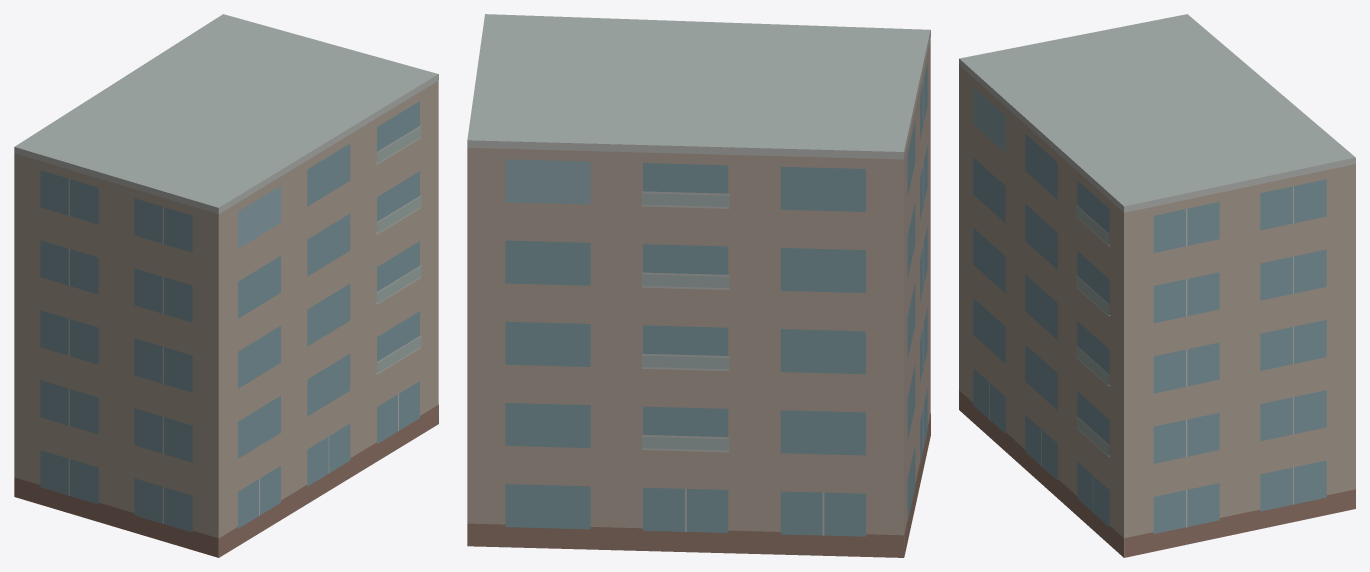
The model's file is survey-upis-32705717.glb.
The picture shows the model from 3 angles, left to right: view 1: azimuth 30°, elevation 25°; view 2: azimuth 150°, elevation 25°; view 3: azimuth 270°, elevation 25°; orthographic projection. The views are drawn at different scales.
Visible parts, largest first — view 1: survey-upis-32705717.tmp; view 2: survey-upis-32705717.tmp; view 3: survey-upis-32705717.tmp.
Boxes of the visible parts, <box> form: survey-upis-32705717.tmp: <box>14,14,438,557</box>; survey-upis-32705717.tmp: <box>467,14,930,557</box>; survey-upis-32705717.tmp: <box>959,14,1355,557</box>.
Bounding box in the file's own units: 15.64 × 13.3 × 13.62.
